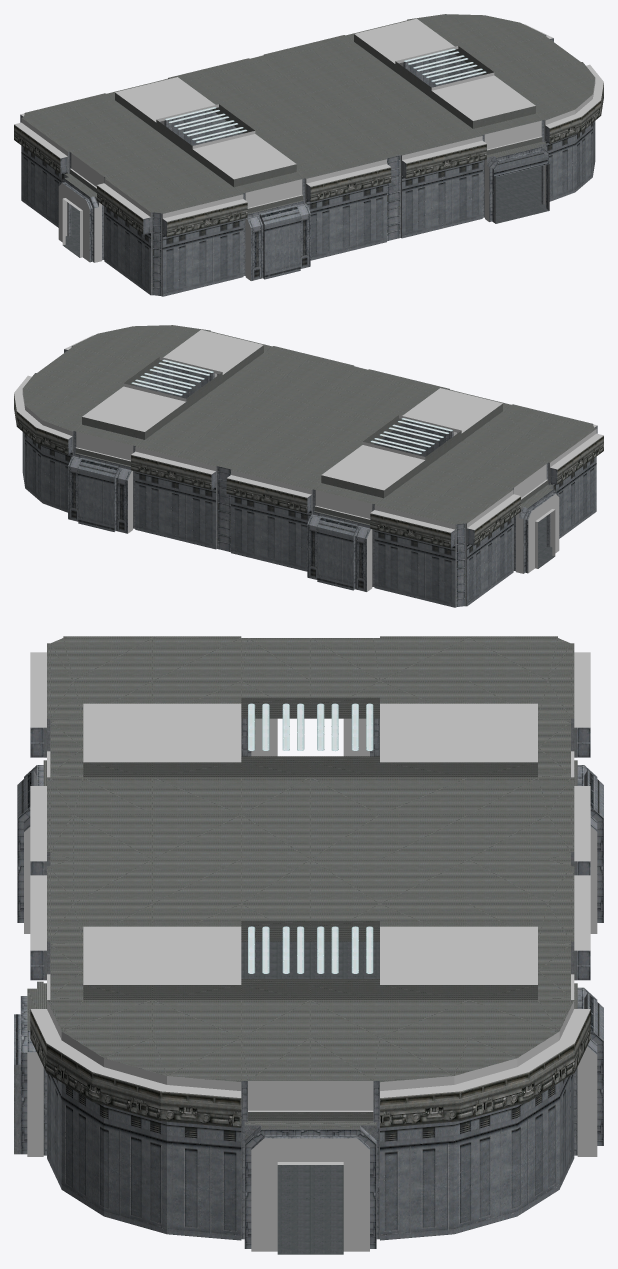
File: poi_all_impl_bunker_warren_s01_r60_mediumroom_mesh_r60.fbx
3 renders of one model, top to bottom at view 1: azimuth 30°, elevation 25°; view 2: azimuth 150°, elevation 25°; view 3: azimuth 270°, elevation 25°, orthographic. The views are drawn at different scales.
Visible parts, largest first — view 1: mesh_node; view 2: mesh_node; view 3: mesh_node.
Boxes of the visible parts, x1=… form: mesh_node: x1=14, y1=14, x2=603, y2=296; mesh_node: x1=14, y1=325, x2=603, y2=607; mesh_node: x1=14, y1=636, x2=603, y2=1254.
Size of the model in its own units: 34 by 6 by 17.9.
